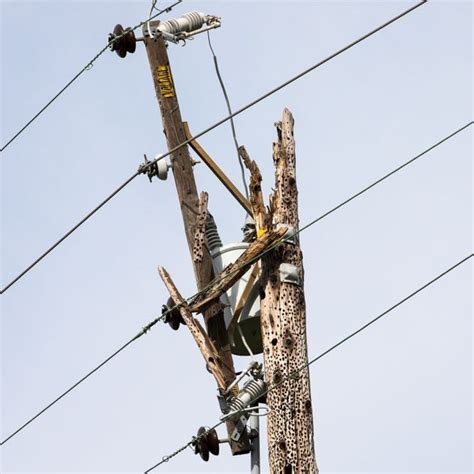pole: (95, 3, 374, 473)
